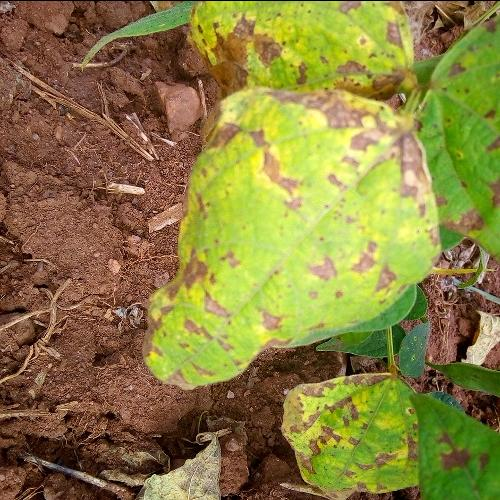hawar: (146, 84, 439, 389)
